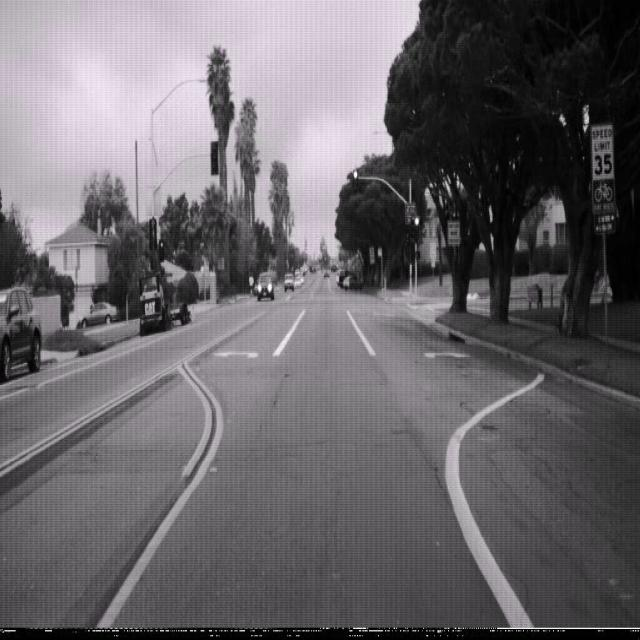speedLimit35: (590, 120, 615, 183)
